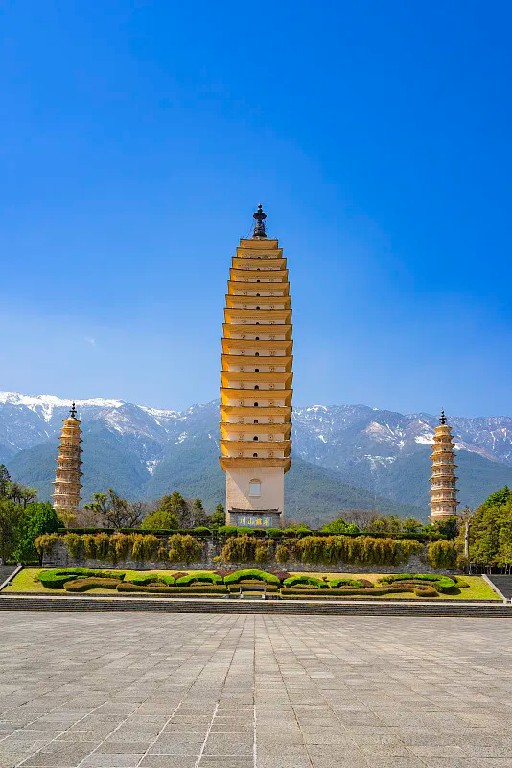ThreePagoda: (219, 205, 294, 523)
